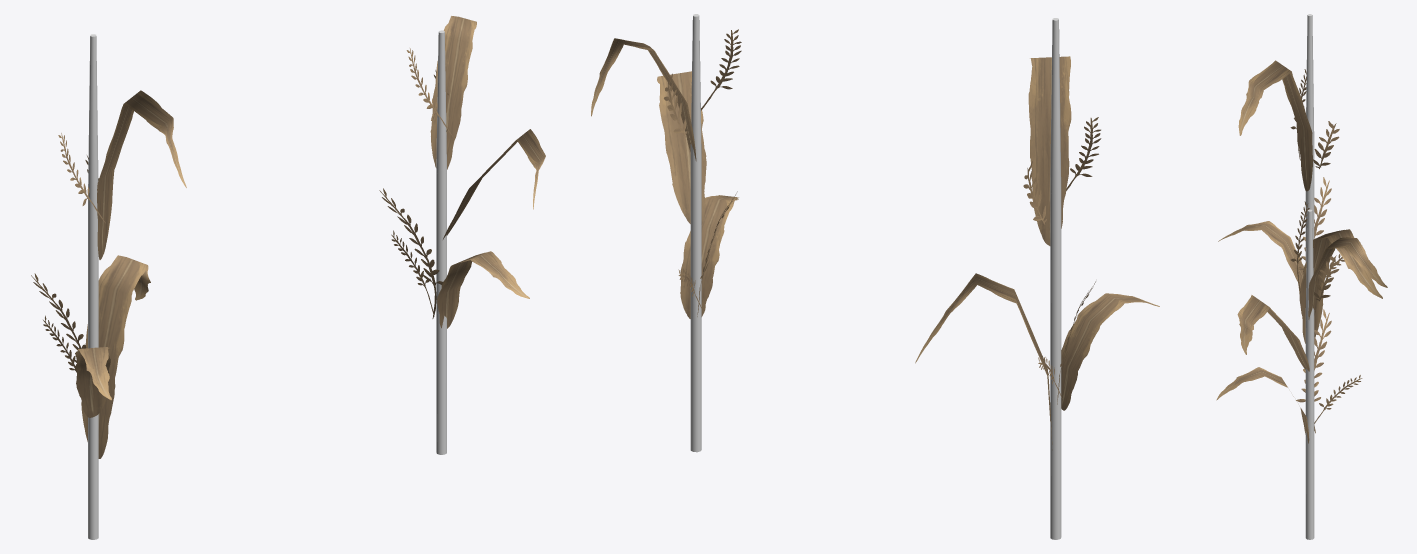
Rendered from DeadCorn2.FBX.
The picture shows the model from 3 angles, left to right: view 1: azimuth 30°, elevation 25°; view 2: azimuth 150°, elevation 25°; view 3: azimuth 270°, elevation 25°; orthographic projection. The views are drawn at different scales.
Parts seen in each view (by area): view 1: Cylinder001, Corn Leaf007, Cylinder003, Corn Leaf003, Corn Leaf016, Corn Leaf015, Corn Leaf006, Corn Leaf014, LongCornFern010; view 2: Cylinder001, Corn Leaf003, Cylinder003, Corn Leaf014, Corn Leaf006, Corn Leaf015, Corn Leaf016, Corn Leaf007; view 3: Cylinder003, Corn Leaf003, Corn Leaf007, Corn Leaf016, Corn Leaf014, Cylinder001, Corn Leaf006, Corn Leaf015, LongCornFern010, LongCornFern002, ShortCornFern002, ShortCornFern004 (+2 smaller).
Part boxes in pixels (x1,y1,x2,y2): Cylinder001: [88, 34, 98, 539]; Corn Leaf007: [81, 255, 150, 458]; Cylinder003: [436, 30, 446, 454]; Corn Leaf003: [97, 90, 186, 259]; Corn Leaf016: [430, 16, 476, 169]; Corn Leaf015: [437, 251, 529, 328]; Corn Leaf006: [74, 347, 111, 417]; Corn Leaf014: [443, 129, 545, 239]; LongCornFern010: [379, 188, 447, 318]; Cylinder001: [1050, 18, 1061, 539]; Corn Leaf003: [1028, 56, 1071, 245]; Cylinder003: [690, 14, 701, 452]; Corn Leaf014: [657, 71, 706, 224]; Corn Leaf006: [1061, 293, 1159, 410]; Corn Leaf015: [680, 195, 738, 318]; Corn Leaf016: [591, 38, 696, 161]; Corn Leaf007: [915, 273, 1052, 450]; Cylinder003: [1305, 209, 1314, 539]; Corn Leaf003: [1238, 60, 1312, 191]; Corn Leaf007: [1299, 229, 1382, 343]; Corn Leaf016: [1308, 237, 1387, 319]; Corn Leaf014: [1237, 295, 1309, 371]; Cylinder001: [1305, 14, 1314, 262]; Corn Leaf006: [1218, 221, 1303, 293]; Corn Leaf015: [1216, 367, 1309, 443]; LongCornFern010: [1296, 309, 1331, 433]; LongCornFern002: [1296, 177, 1331, 269]; ShortCornFern002: [1313, 121, 1339, 168]; ShortCornFern004: [1314, 255, 1339, 301].
Size of the model in its own units: 67.92 by 66.31 by 29.9.
3 materials, 3 textured.
